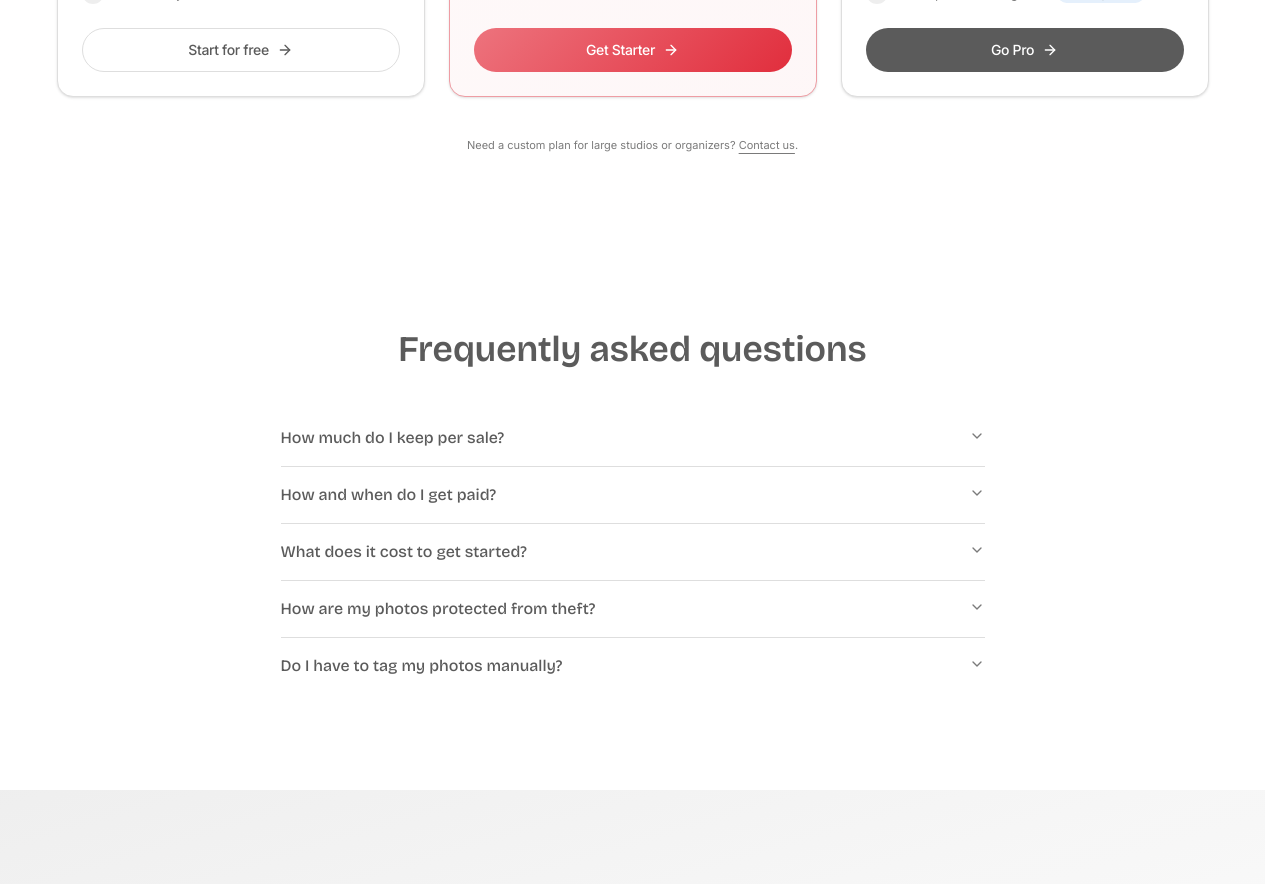
Test: /photographers landing (T-120) › renders every FAQ question and expands the answer on click
(page scrolled)
Expected: the heading "Frequently asked questions" is shown, [398, 328, 867, 371]
Expected: the button "How and when do I get paid?" is shown, [280, 467, 984, 523]
Click the button "How much do I keep per sale?" at (392, 437), box [280, 410, 984, 466]
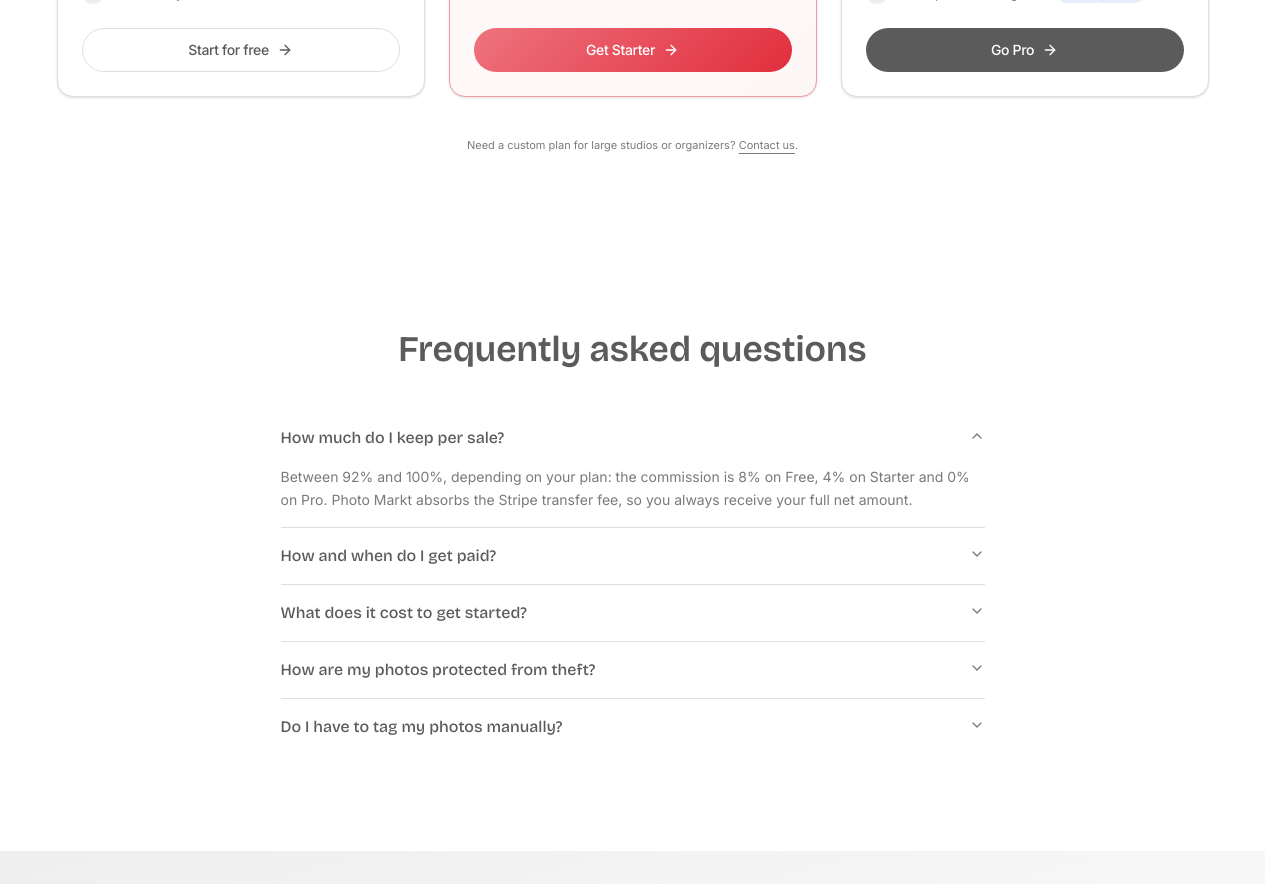
Expected: the text "Between 92% and 100%, depending on your plan: the commission is 8% on Free, 4% on Starter and 0% on Pro. Photo Markt abs" is shown, [280, 468, 970, 508]
